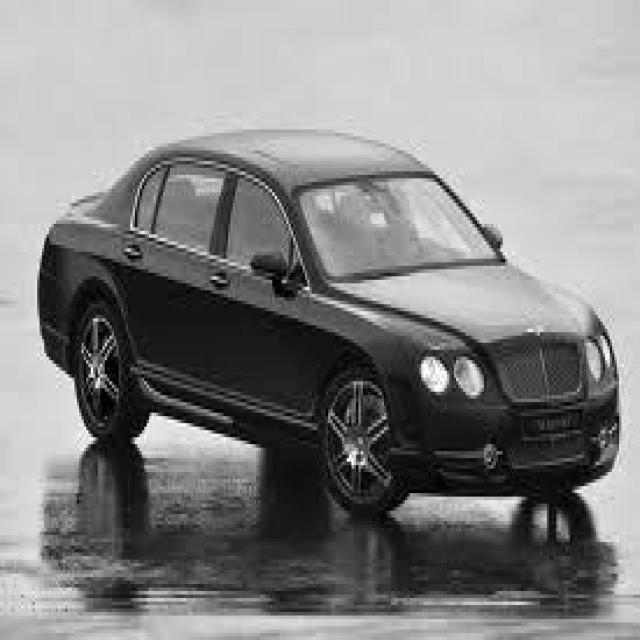car: (35, 126, 619, 521)
